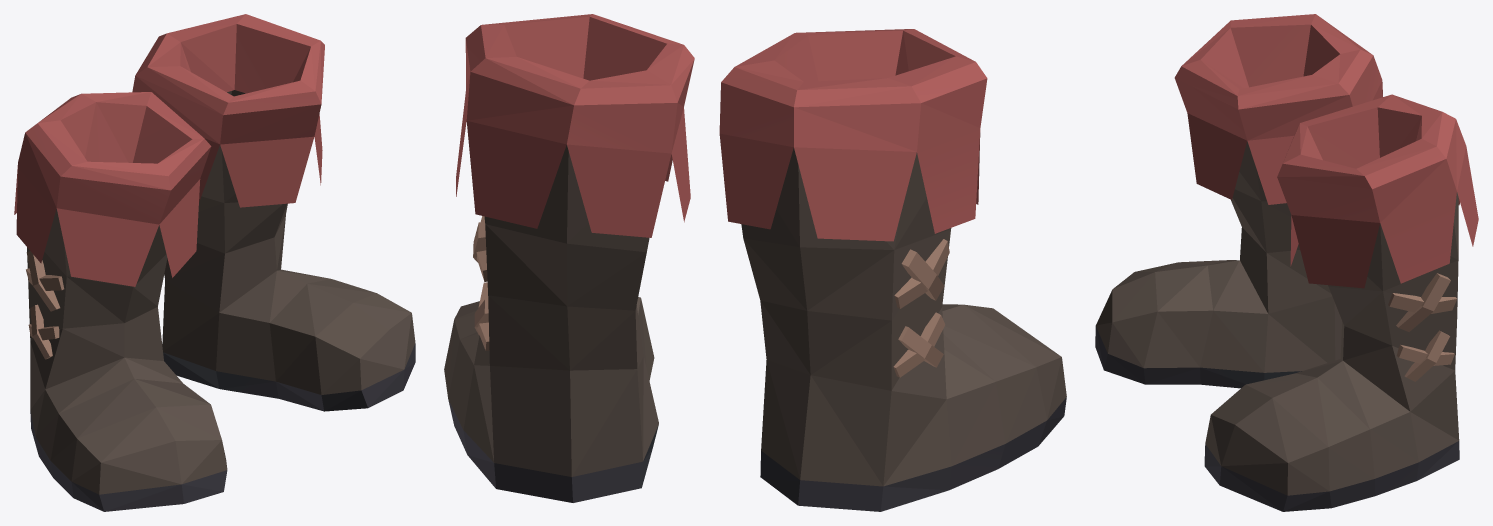
The model's file is bootsExplorerDisplay.fbx.
3 views of the same model, side by side, from view 1: azimuth 30°, elevation 25°; view 2: azimuth 150°, elevation 25°; view 3: azimuth 270°, elevation 25° (orthographic). The views are drawn at different scales.
Visible parts, largest first — view 1: bootsExplorerDisplay; view 2: bootsExplorerDisplay; view 3: bootsExplorerDisplay.
Boxes of the visible parts, x1=… form: bootsExplorerDisplay: x1=14, y1=14, x2=415, y2=511; bootsExplorerDisplay: x1=444, y1=14, x2=1066, y2=511; bootsExplorerDisplay: x1=1095, y1=14, x2=1478, y2=511.
Size of the model in its own units: 1.61 by 1.23 by 1.32.
Materials: 1 (1 with a texture image).
